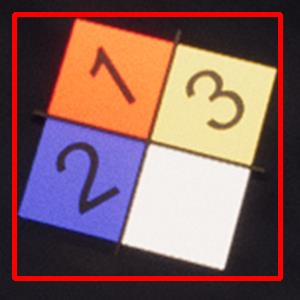nfpa: (14, 14, 280, 278)
